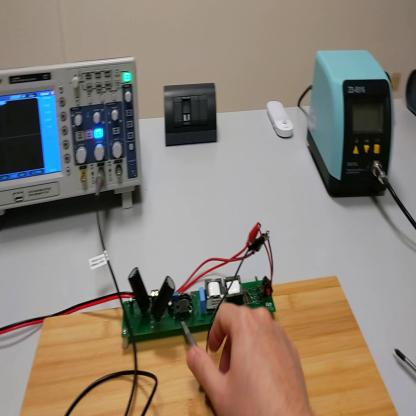hand: (189, 302, 317, 415)
high voltage board: (116, 227, 279, 339)
oscilloscope: (2, 55, 145, 213)
oscilloscope probe tip: (182, 317, 203, 349)
screwdriver-: (396, 340, 416, 378)
socket: (406, 70, 416, 118)
welder station: (308, 47, 396, 205)
working area: (22, 278, 400, 416)
